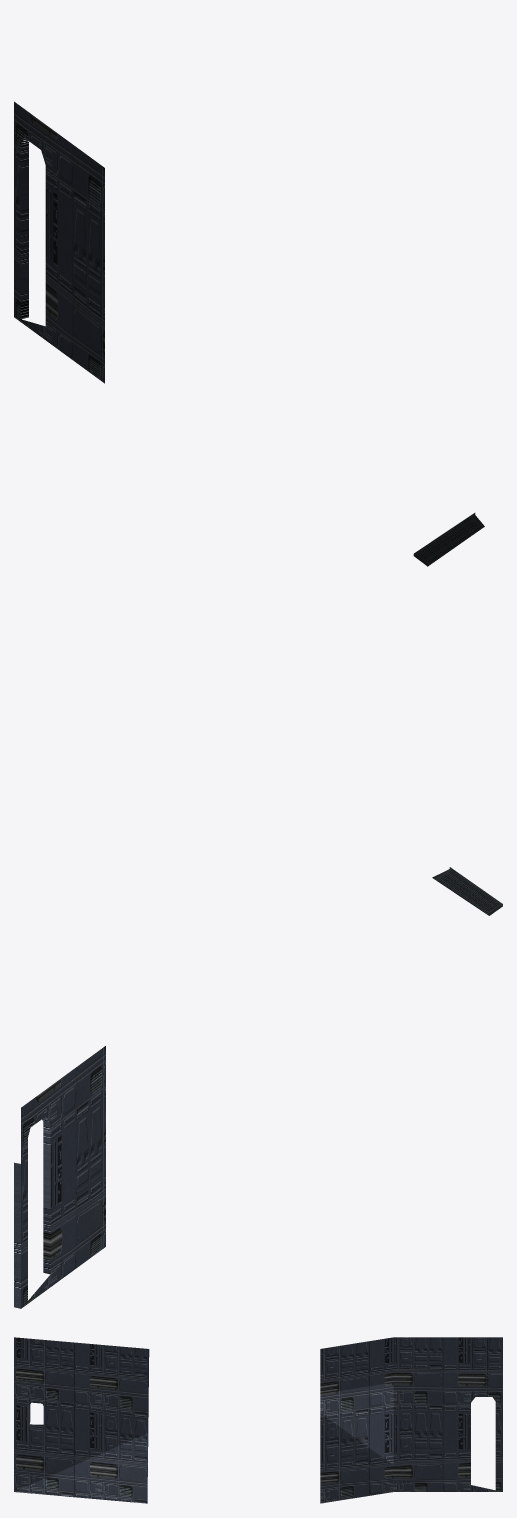
File: bldg_lab_back_office_wall.gltf
3 views of the same model, one above another, from view 1: azimuth 30°, elevation 25°; view 2: azimuth 150°, elevation 25°; view 3: azimuth 270°, elevation 25° (orthographic). The views are drawn at different scales.
Visible parts, largest first — view 1: polymsh, lab_rear_wall2; view 2: polymsh, lab_rear_wall2; view 3: lab_rear_wall4, polymsh, lab_rear_wall2.
Boxes of the visible parts, x1,y1,x2,y2 form: polymsh: (14, 101, 104, 383); lab_rear_wall2: (413, 513, 484, 566); polymsh: (14, 1046, 105, 1308); lab_rear_wall2: (432, 867, 502, 915); lab_rear_wall4: (14, 1339, 502, 1503); polymsh: (410, 1382, 502, 1491); lab_rear_wall2: (14, 1337, 502, 1427).
Size of the model in its own units: 10.19 by 27.59 by 80.
Materials: 2 (2 with a texture image).
